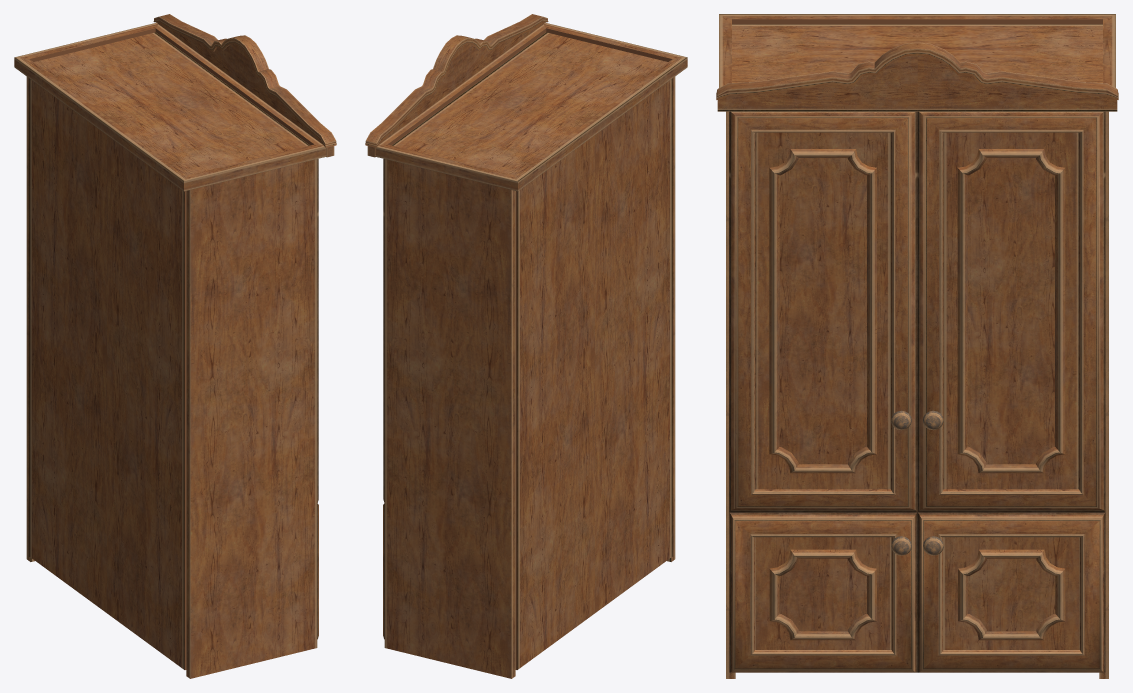
The model's file is Cabinet_02.fbx.
3 renders of one model, left to right at view 1: azimuth 30°, elevation 25°; view 2: azimuth 150°, elevation 25°; view 3: azimuth 270°, elevation 25°, orthographic. The views are drawn at different scales.
Parts seen in each view (by area): view 1: Cabinet_02, door_01; view 2: Cabinet_02, door_02; view 3: Cabinet_02, door_02, door_01.
Part boxes in pixels (x1,y1,x2,y2): Cabinet_02: (14, 14, 336, 678); door_01: (317, 159, 318, 503); Cabinet_02: (365, 14, 687, 678); door_02: (383, 159, 384, 502); Cabinet_02: (716, 14, 1118, 678); door_02: (917, 111, 1105, 512); door_01: (729, 111, 917, 512).
Bounding box in the file's own units: 96.99 × 331 × 189.
2 materials, 2 textured.
